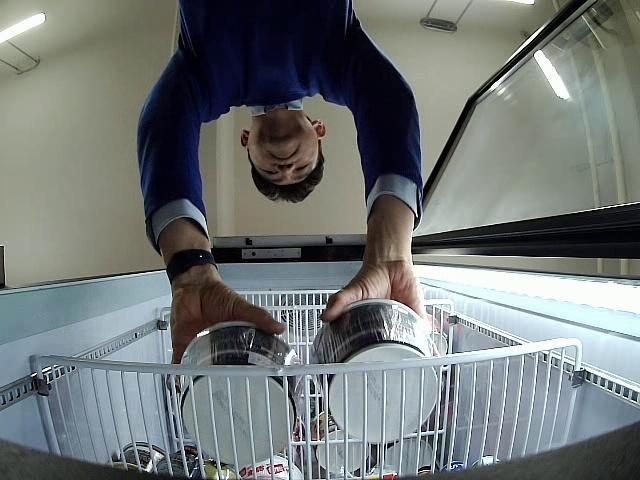07_buldak_L: (309, 299, 439, 444), (179, 322, 306, 466)
